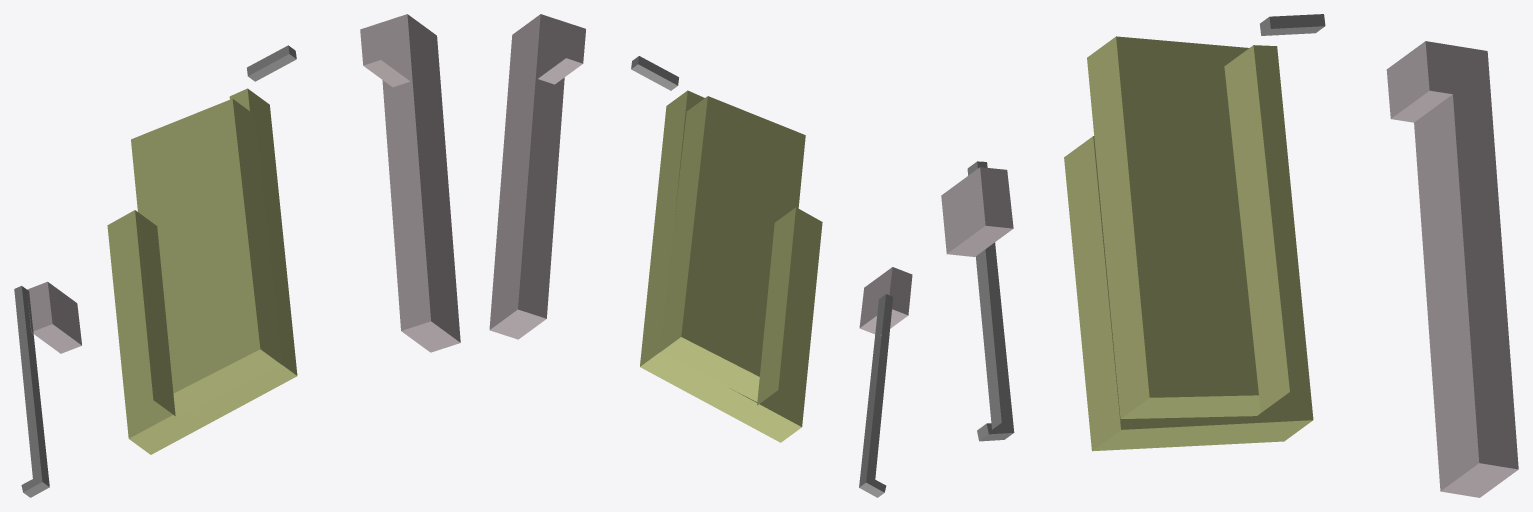
3 views of the same model, side by side, from view 1: azimuth 30°, elevation 25°; view 2: azimuth 150°, elevation 25°; view 3: azimuth 330°, elevation 25° (orthographic). The views are drawn at different scales.
Parts seen in each view (by area): view 1: 0_2_0_1_2_1_2_2; view 2: 0_2_0_1_2_1_2_2; view 3: 0_2_0_1_2_1_2_2.
Boxes of the visible parts, x1=… form: 0_2_0_1_2_1_2_2: x1=14, y1=14, x2=460, y2=497; 0_2_0_1_2_1_2_2: x1=489, y1=14, x2=912, y2=497; 0_2_0_1_2_1_2_2: x1=941, y1=14, x2=1518, y2=497.
Bounding box in the file's own units: 97.05 × 86.62 × 14.15.
